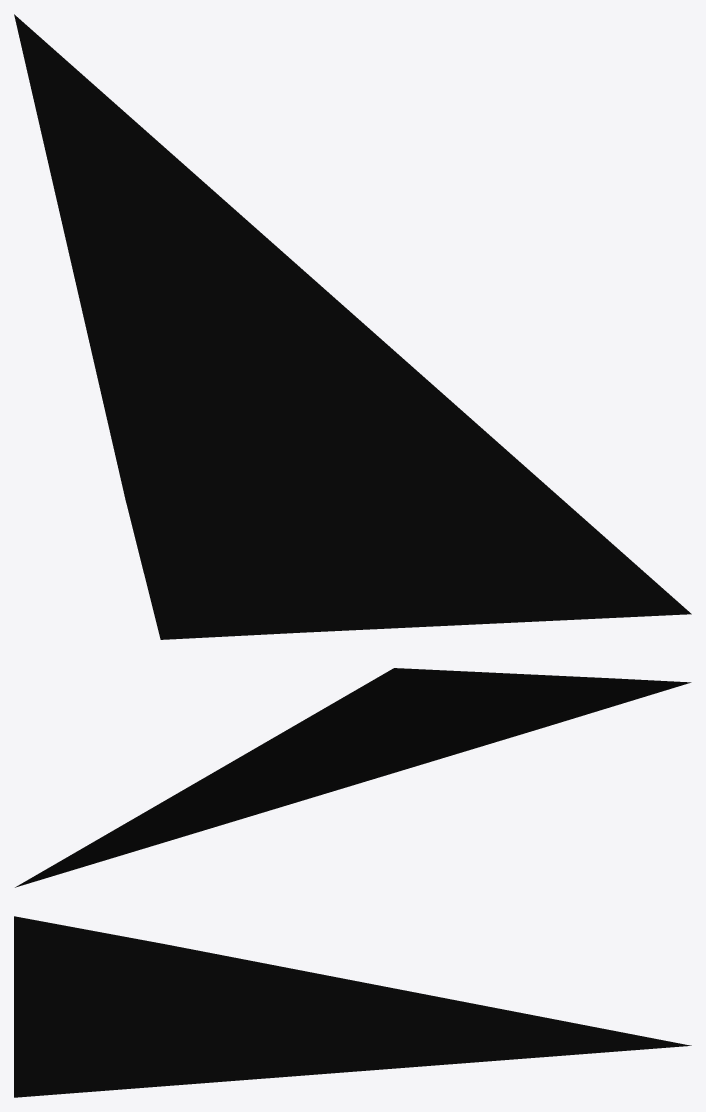
3 views of the same model, one above another, from view 1: azimuth 30°, elevation 25°; view 2: azimuth 150°, elevation 25°; view 3: azimuth 270°, elevation 25° (orthographic). The views are drawn at different scales.
Size of the model in its own units: 0.000816 by 0.000154 by 0.0018.
1 material, 1 textured.
